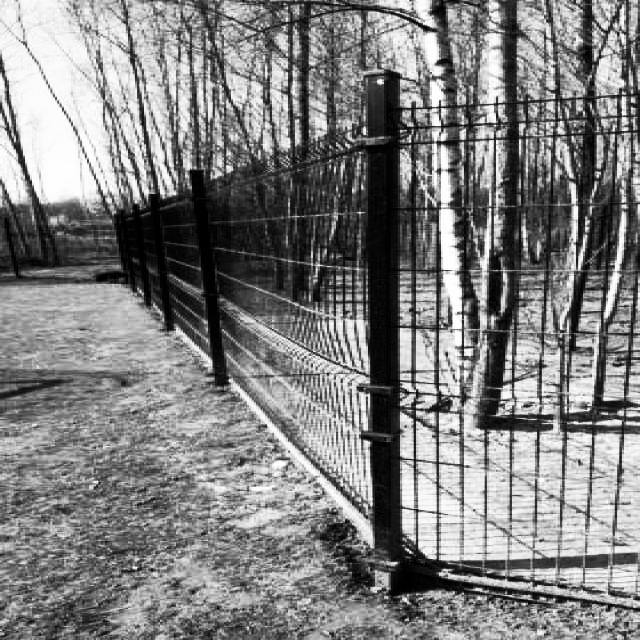fences: (385, 111, 640, 595), (198, 149, 380, 531), (111, 202, 198, 328)
